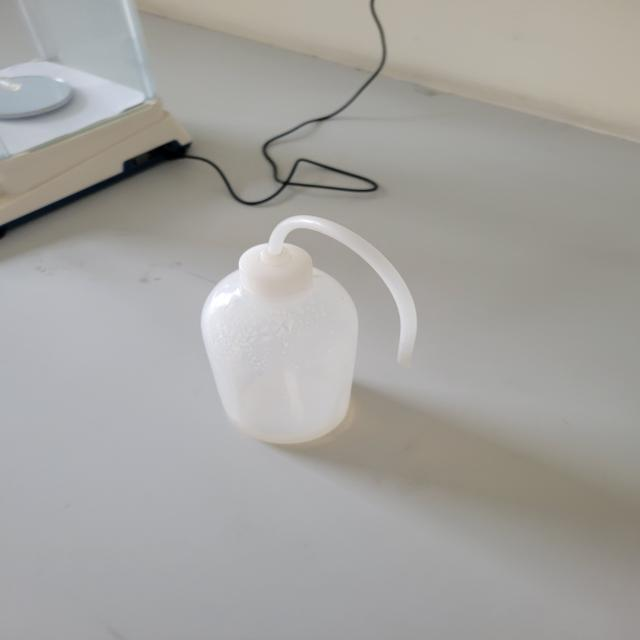Wash_Bottle: (133, 169, 450, 485)
